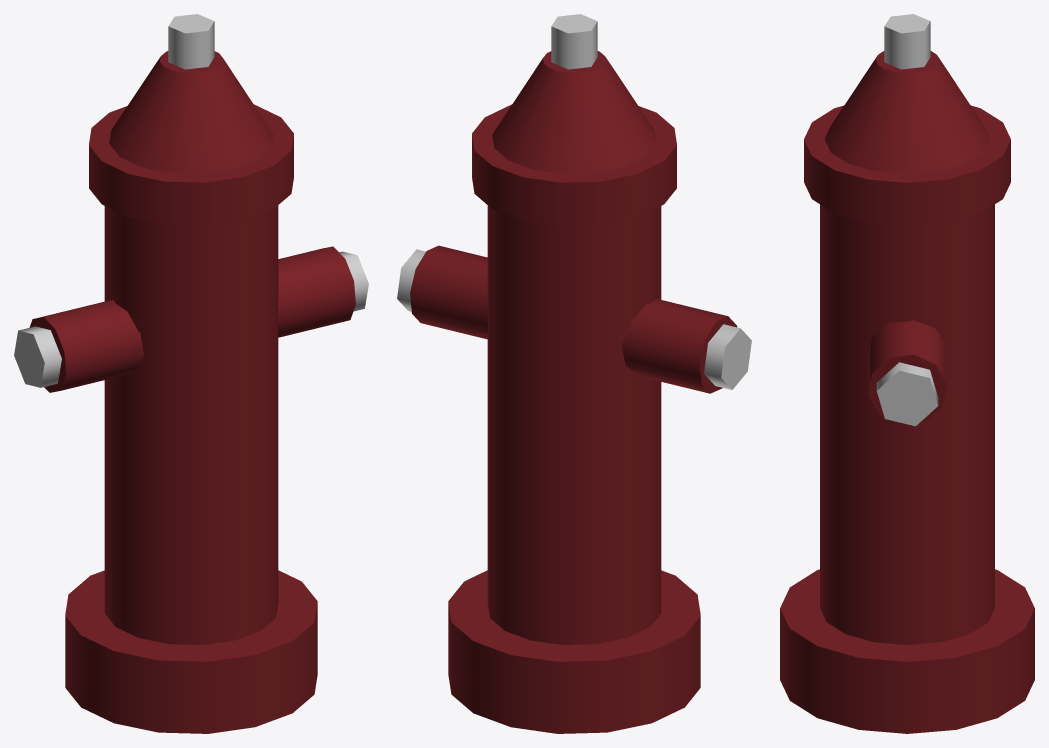
Rendered from yangin_musluk.glb.
3 renders of one model, left to right at view 1: azimuth 30°, elevation 25°; view 2: azimuth 150°, elevation 25°; view 3: azimuth 270°, elevation 25°, orthographic.
Parts seen in each view (by area): view 1: Yangin_Musluk; view 2: Yangin_Musluk; view 3: Yangin_Musluk.
Boxes of the visible parts, left/top/right/bottom form: Yangin_Musluk: left=14, top=14, right=368, bottom=733; Yangin_Musluk: left=397, top=14, right=751, bottom=733; Yangin_Musluk: left=780, top=14, right=1034, bottom=733.
Size of the model in its own units: 0.47 by 0.91 by 0.32.
